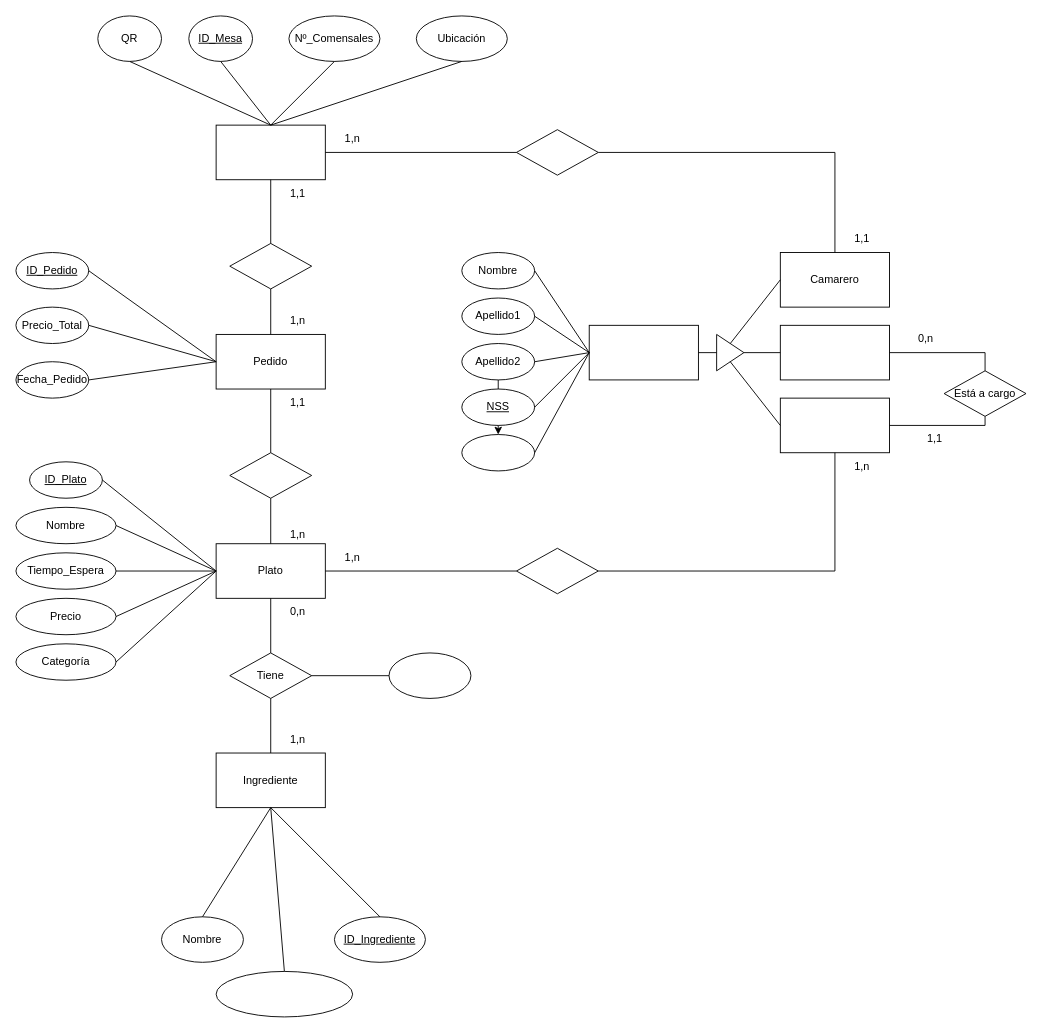
Some shapes in this 1042 by 1033 pixel diagram are drawn without their labels. The shapes that lost their labels are listed below. From the top down, each one's box as (x1, y1, x2, y2) in pixels, then its label:
(215, 124, 325, 180): Mesa
(516, 129, 598, 175): Asignado
(229, 243, 312, 289): Realiza
(588, 324, 698, 380): Empleado
(716, 334, 744, 371): PD
(779, 324, 890, 380): Pinche
(779, 397, 890, 453): Cocinero
(461, 434, 535, 471): DNI
(229, 452, 312, 498): Pide
(516, 547, 598, 594): Cocina
(388, 652, 471, 698): Cantidad
(215, 971, 353, 1017): Cantidad_Almacenada
